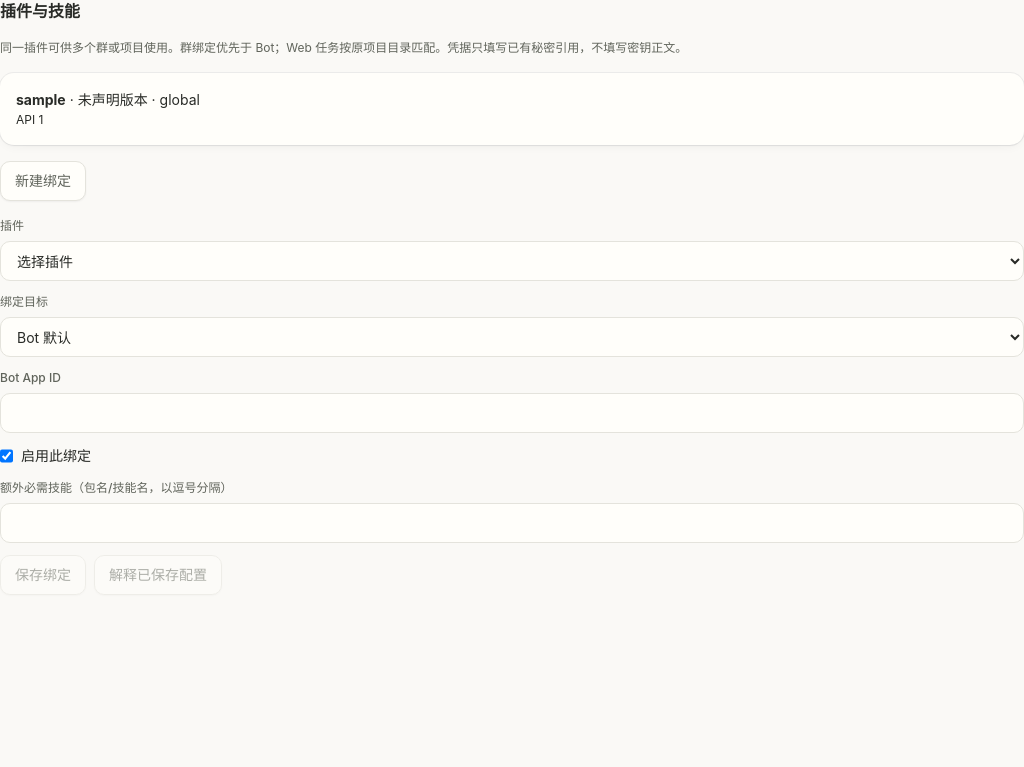
it: presents the plugin settings explanation through readable source fields without config bodies
Select "sample" in the dropdown labelled "插件": (512, 261) [0, 241, 1023, 281]
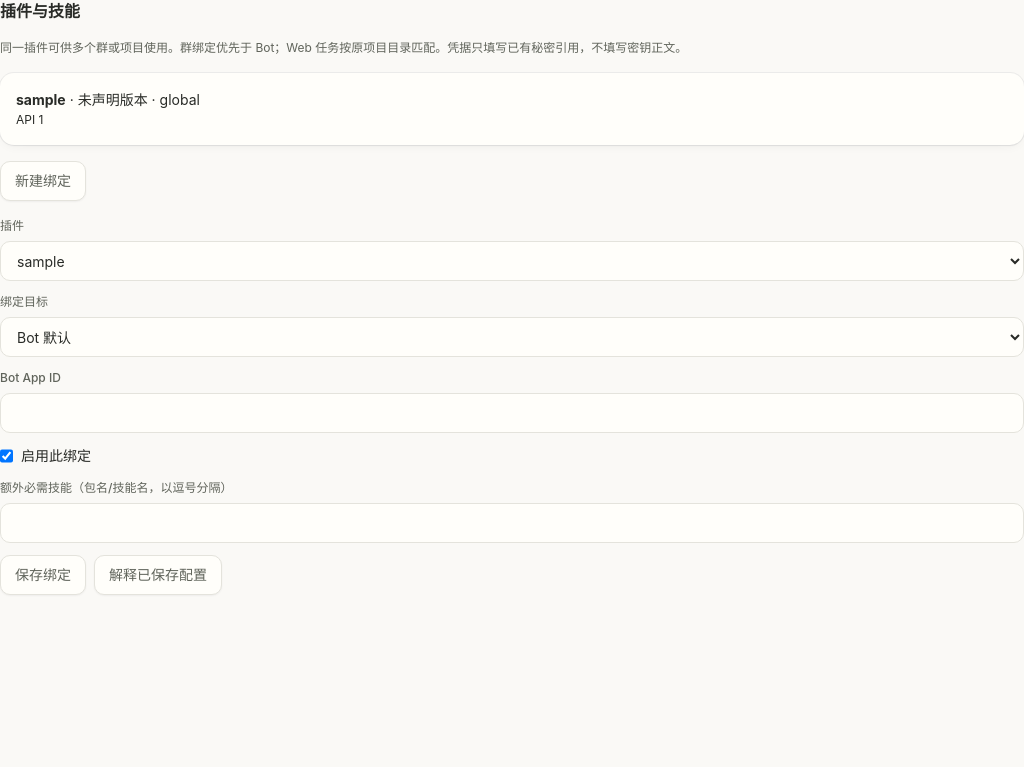
In the field labelled "Bot App ID": (512, 413) [0, 393, 1023, 433], type "bot"
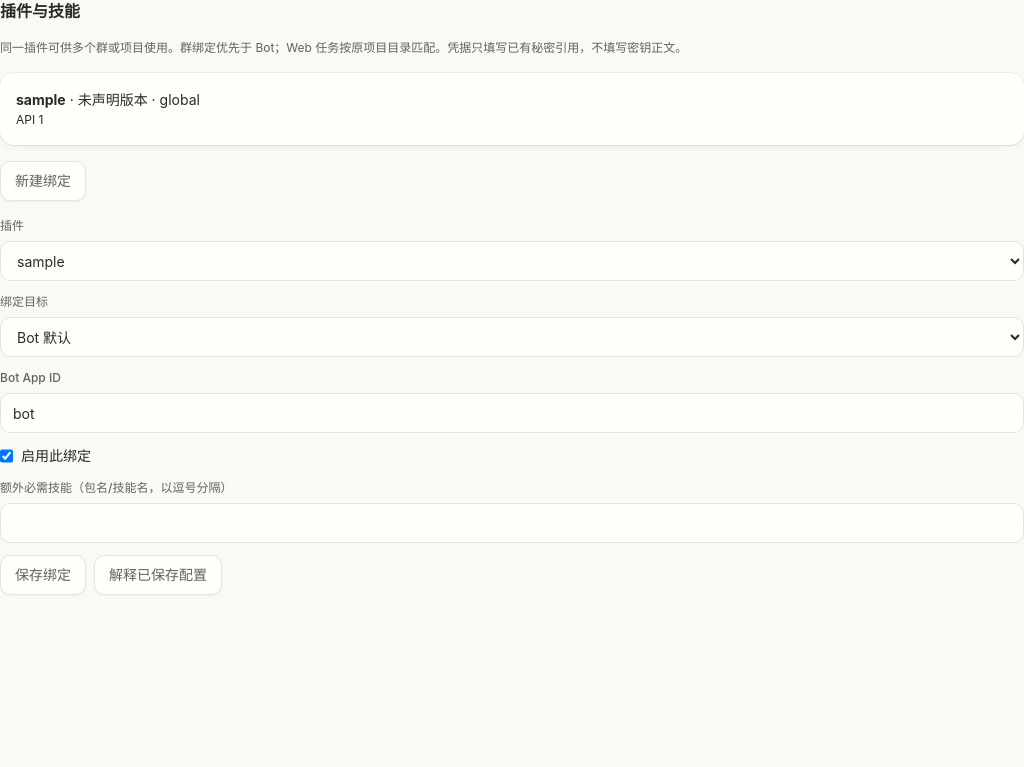
Click the button "解释已保存配置": (158, 575) [94, 555, 222, 595]
(page scrolled)
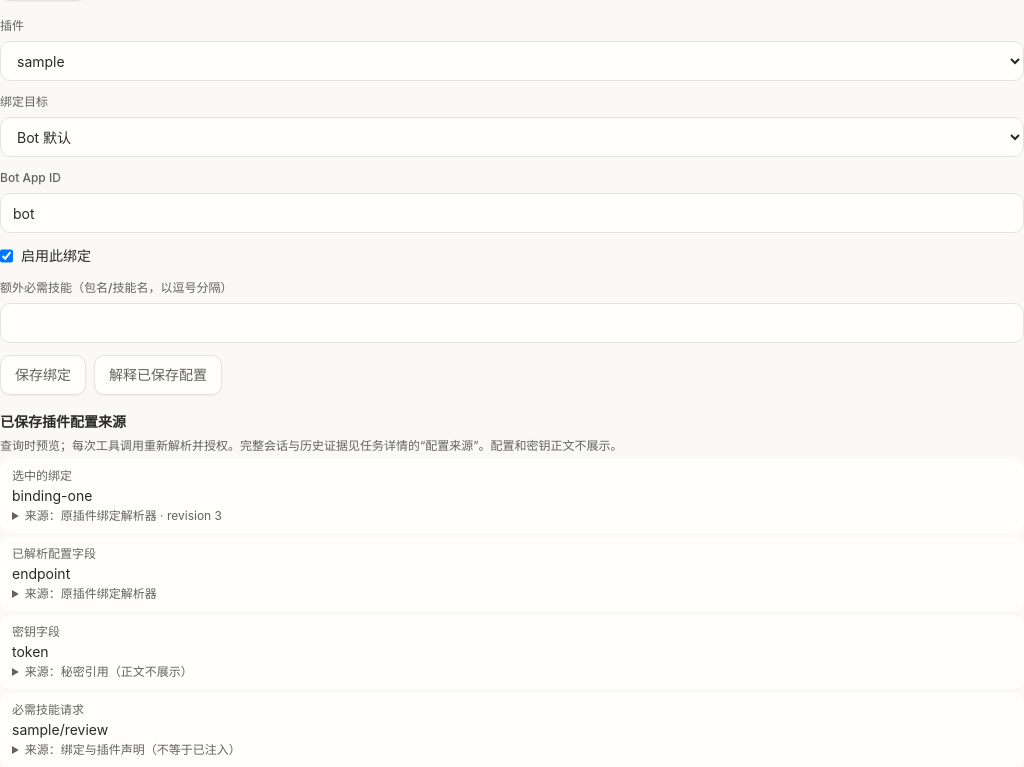
Expected: the heading "已保存插件配置来源" is shown, [0, 413, 126, 430]
Expected: the text "binding-one" is shown, [12, 487, 92, 504]
Expected: the text "sample/review" is shown, [12, 721, 108, 738]
